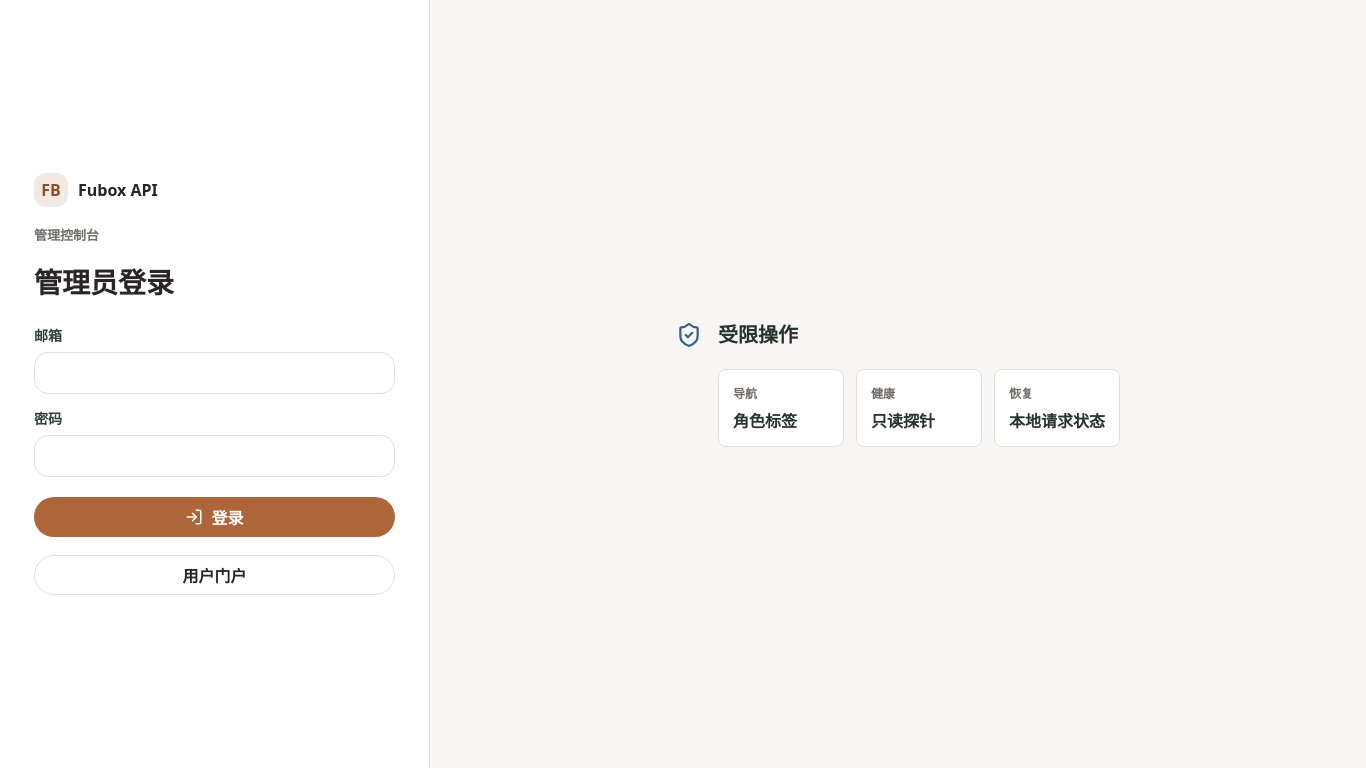
App › keeps billing users scoped to billing navigation
Type "operator@example.com" into the field labelled "邮箱" at (214, 373), box [34, 352, 395, 394]
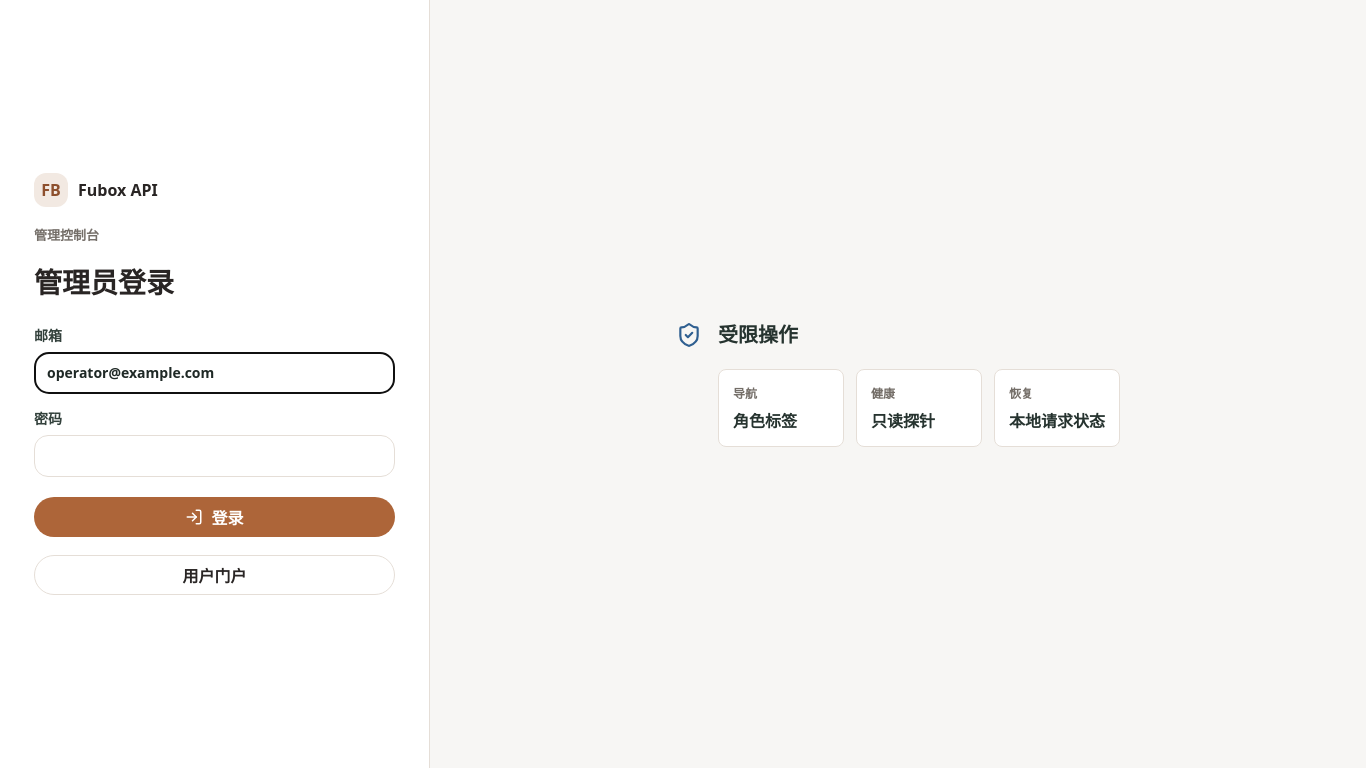
Type "local-password" into the password field labelled "密码" at (214, 456), box [34, 435, 395, 477]
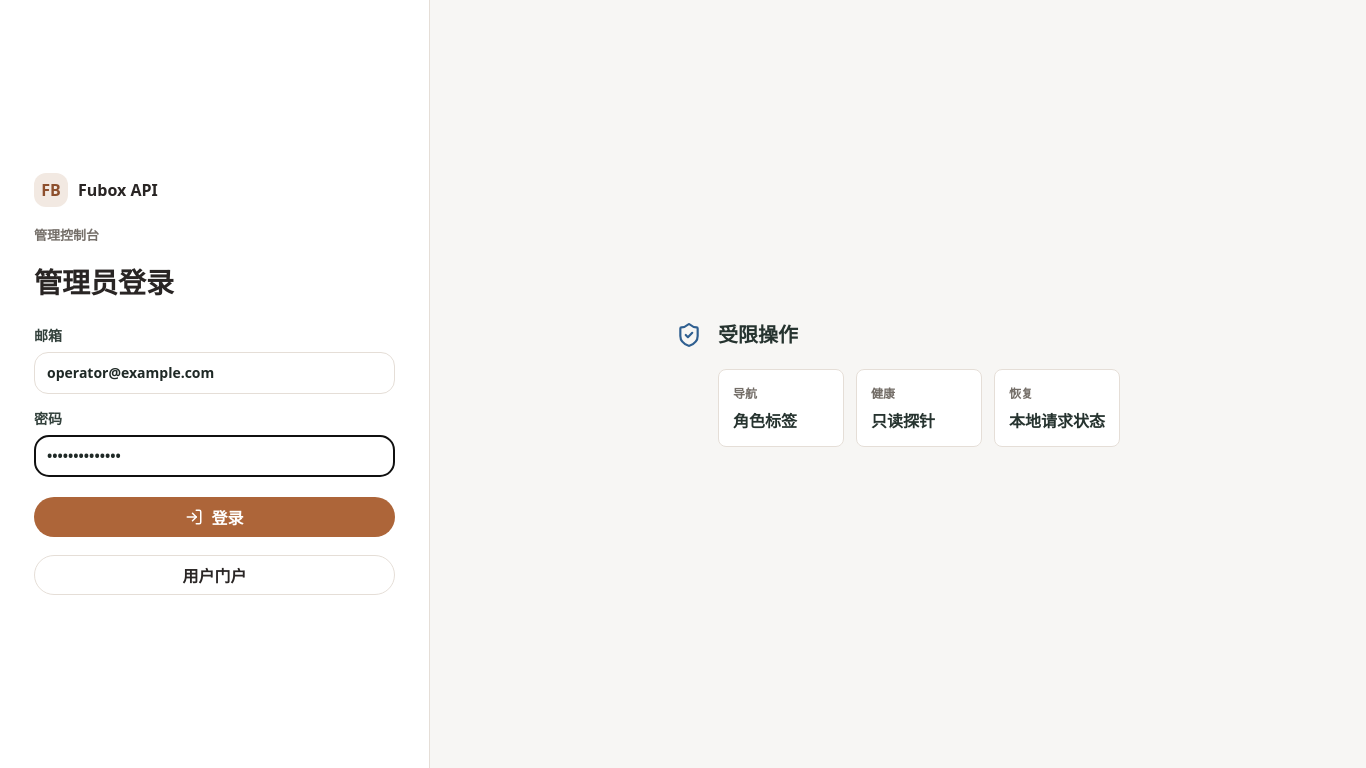
Click the button "登录" at (214, 517), box [34, 497, 395, 537]
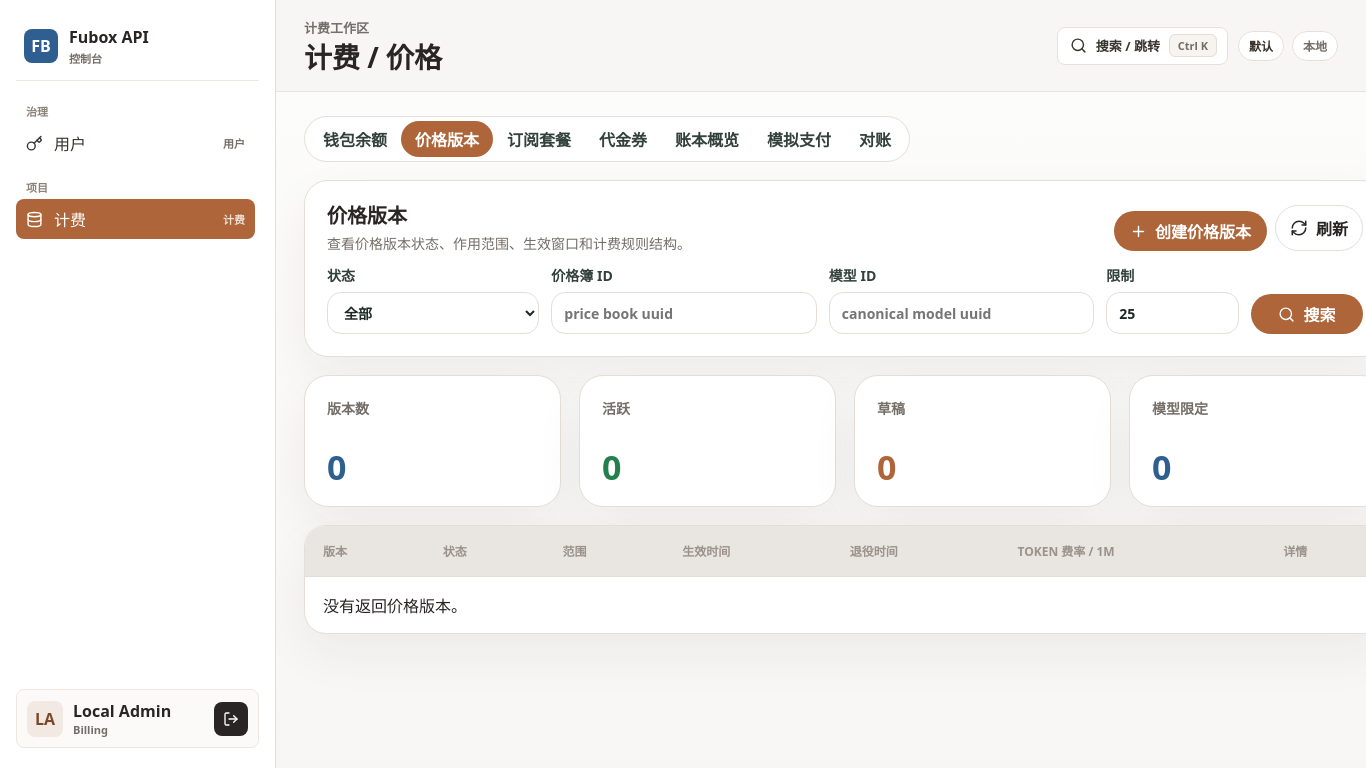
Expected: the button "计费 计费" is shown, [16, 199, 255, 239]
Expected: the heading "计费 / 价格" is shown, [304, 41, 442, 73]
